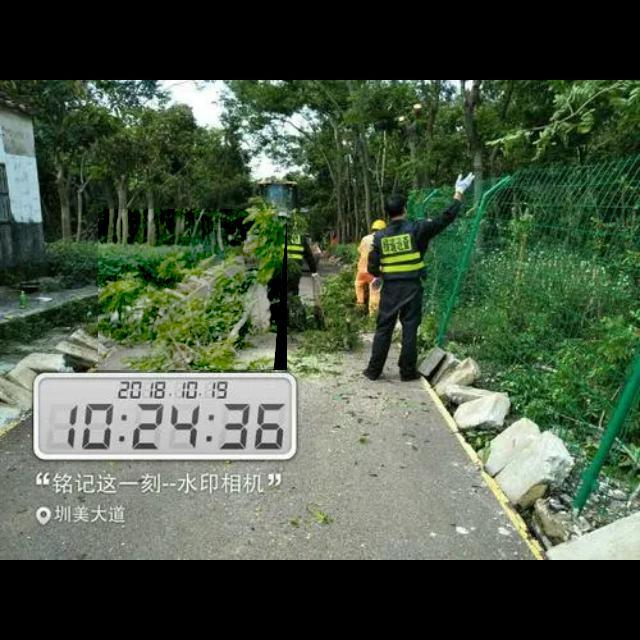fallen_tree: (98, 209, 288, 371)
